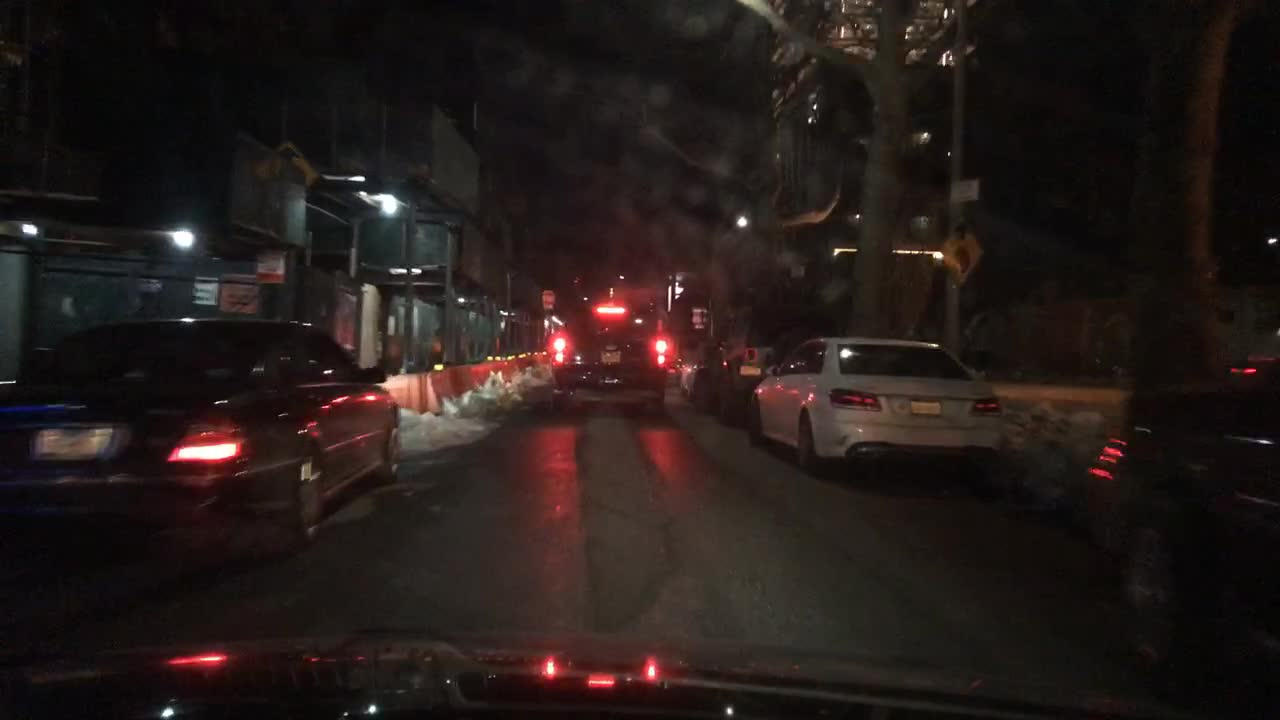car: (0, 317, 403, 550), (1084, 355, 1279, 687), (741, 337, 1005, 494), (543, 295, 674, 419), (694, 333, 807, 423), (678, 339, 732, 397)
traffic sign: (942, 230, 991, 288), (255, 250, 285, 284), (953, 177, 982, 202)
